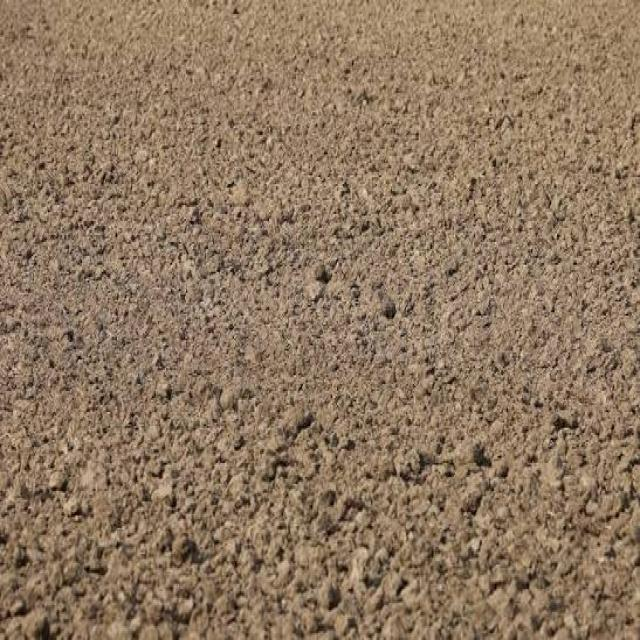suelo_compacto: (133, 151, 446, 494)
